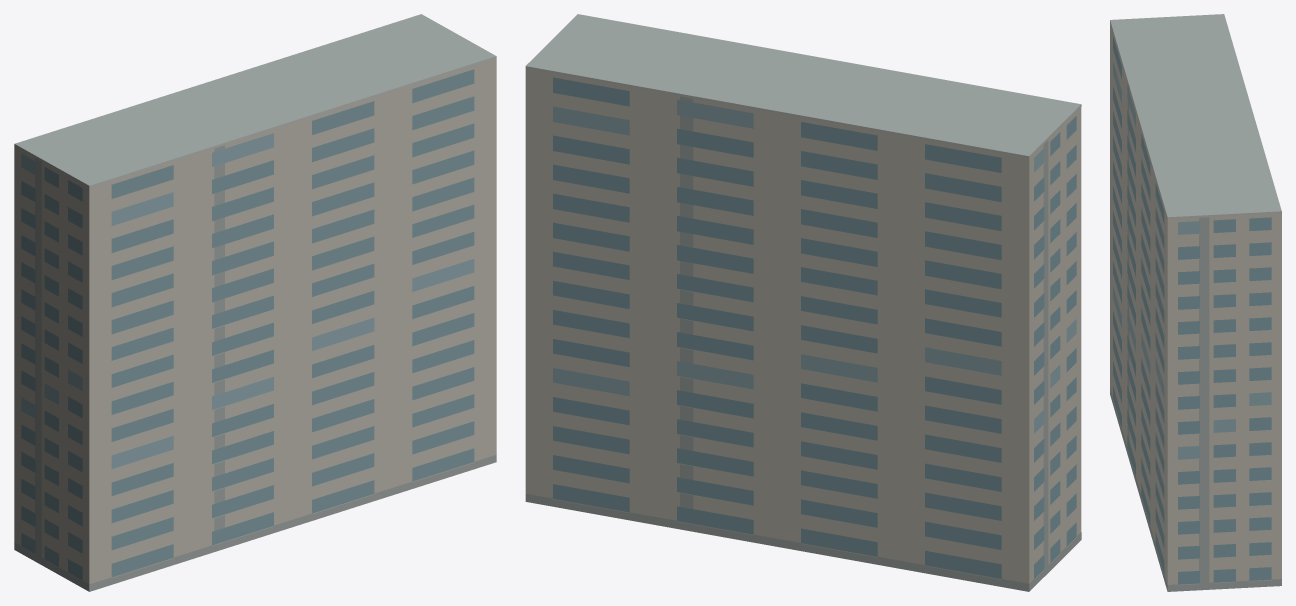
The model's file is residential-2c1d838c-4df1-4c03-ba0a-7a9bd5861353.glb.
The picture shows the model from 3 angles, left to right: view 1: azimuth 30°, elevation 25°; view 2: azimuth 150°, elevation 25°; view 3: azimuth 270°, elevation 25°; orthographic projection. The views are drawn at different scales.
Parts seen in each view (by area): view 1: residential-2c1d838c-4df1-4c03-ba0a-7a9bd5861353.tmp; view 2: residential-2c1d838c-4df1-4c03-ba0a-7a9bd5861353.tmp; view 3: residential-2c1d838c-4df1-4c03-ba0a-7a9bd5861353.tmp.
Boxes of the visible parts, bbox=[...] form: residential-2c1d838c-4df1-4c03-ba0a-7a9bd5861353.tmp: bbox=[14, 14, 496, 591]; residential-2c1d838c-4df1-4c03-ba0a-7a9bd5861353.tmp: bbox=[525, 14, 1081, 591]; residential-2c1d838c-4df1-4c03-ba0a-7a9bd5861353.tmp: bbox=[1110, 14, 1281, 591].
Bounding box in the file's own units: 46.54 × 40 × 16.63.
